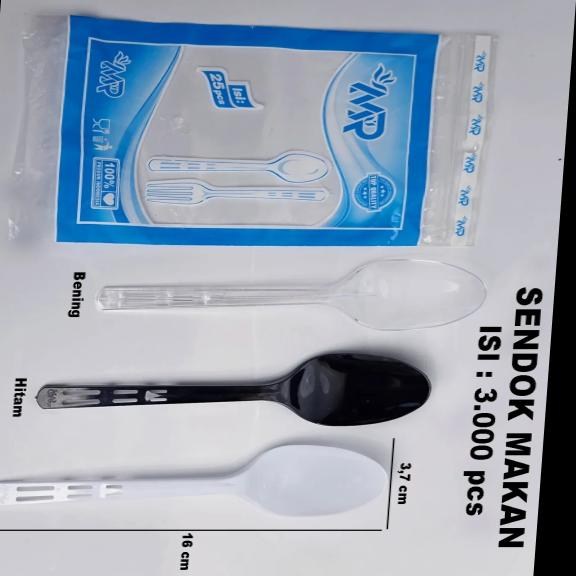Plastik: (100, 260, 483, 330)
